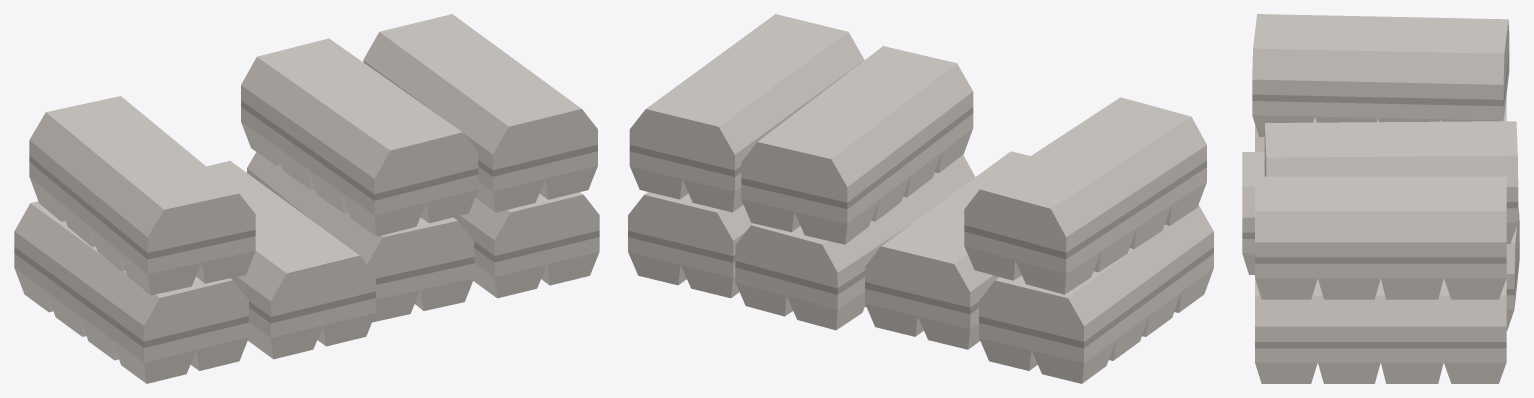
The model's file is ShelfItem6.glb.
The picture shows the model from 3 angles, left to right: view 1: azimuth 30°, elevation 25°; view 2: azimuth 150°, elevation 25°; view 3: azimuth 270°, elevation 25°; orthographic projection. The views are drawn at different scales.
Parts seen in each view (by area): view 1: SI_Prop_ShelfItem_06; view 2: SI_Prop_ShelfItem_06; view 3: SI_Prop_ShelfItem_06.
Part boxes in pixels (x1=…): SI_Prop_ShelfItem_06: x1=14, y1=14, x2=599, y2=383; SI_Prop_ShelfItem_06: x1=628, y1=14, x2=1213, y2=383; SI_Prop_ShelfItem_06: x1=1242, y1=14, x2=1519, y2=383.
Size of the model in its own units: 0.0133 by 0.00481 by 0.00724.
Materials: 1 (1 with a texture image).
